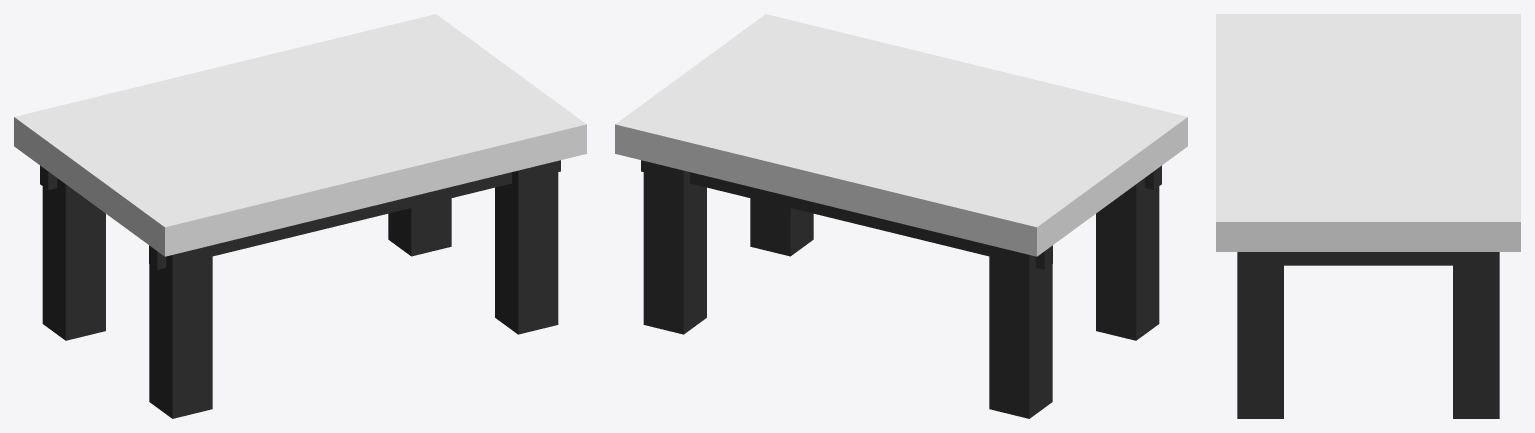
The model's file is Table_3A.fbx.
The picture shows the model from 3 angles, left to right: view 1: azimuth 30°, elevation 25°; view 2: azimuth 150°, elevation 25°; view 3: azimuth 270°, elevation 25°; orthographic projection.
Visible parts, largest first — view 1: polySurface1514; view 2: polySurface1514; view 3: polySurface1514.
Boxes of the visible parts, x1,y1,x2,y2 form: polySurface1514: (14, 14, 586, 418); polySurface1514: (615, 14, 1187, 418); polySurface1514: (1216, 14, 1520, 418).
Bounding box in the file's own units: 1.05 × 0.4843 × 0.65.
Materials: 1 (1 with a texture image).
